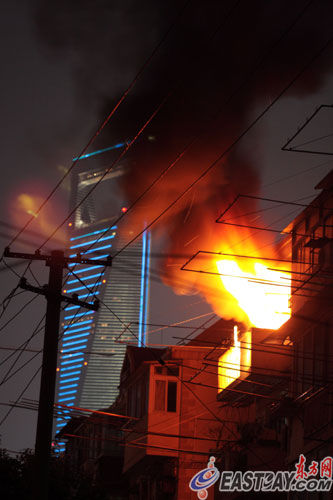fire: (202, 217, 297, 329)
